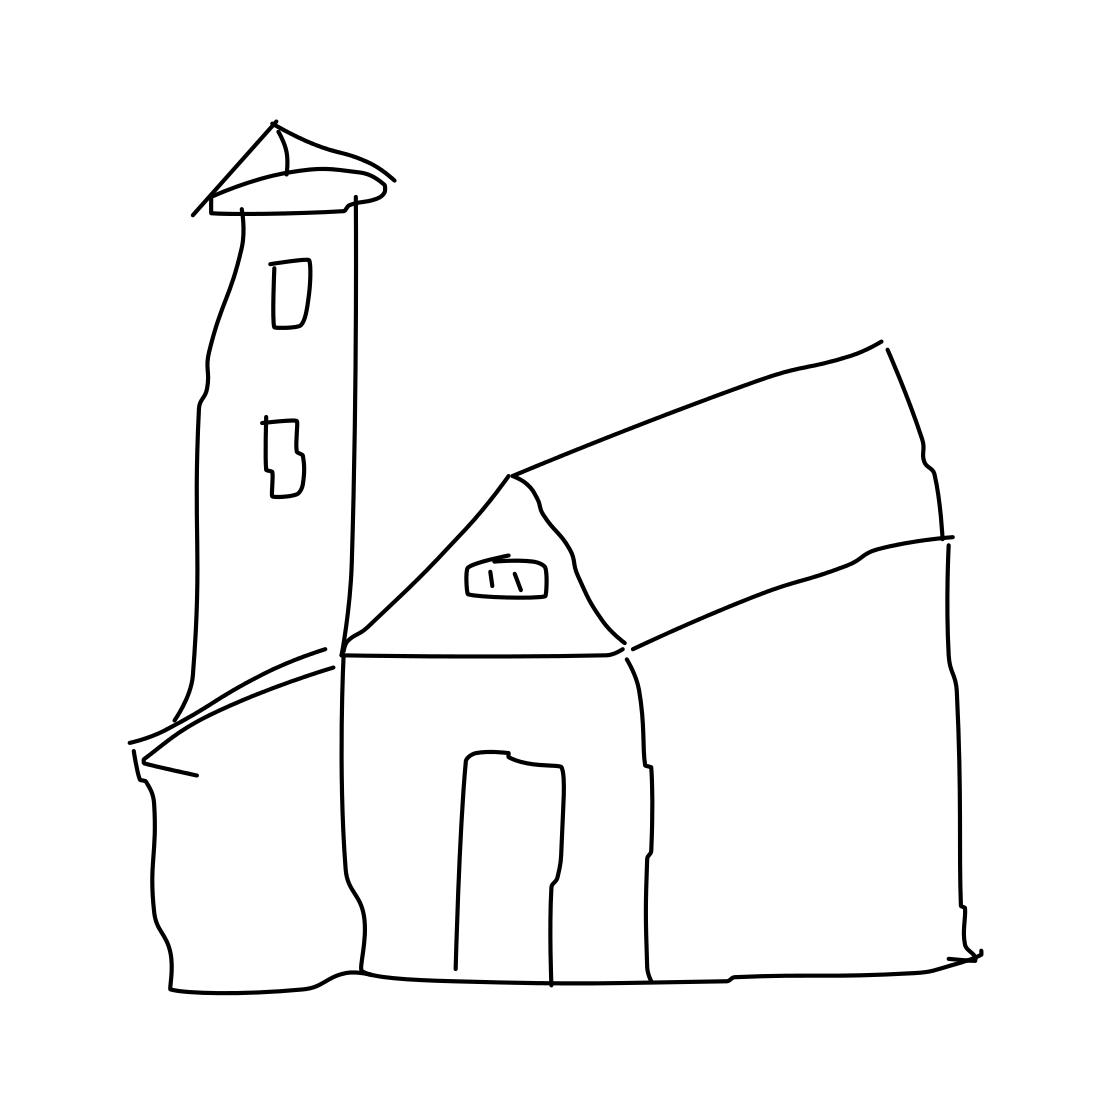House: (327, 330, 1032, 1007)
